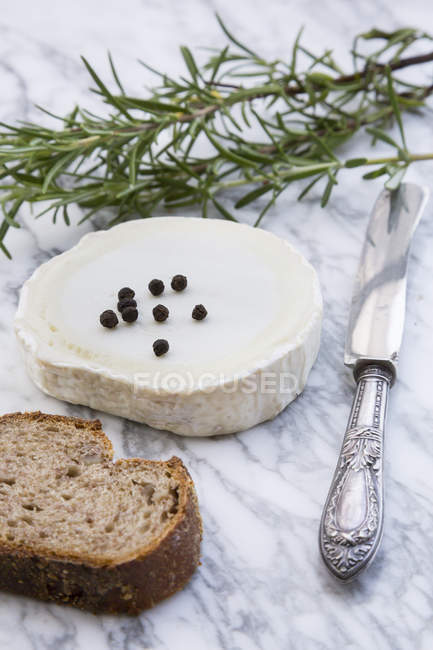slice of bread: (10, 410, 190, 596)
